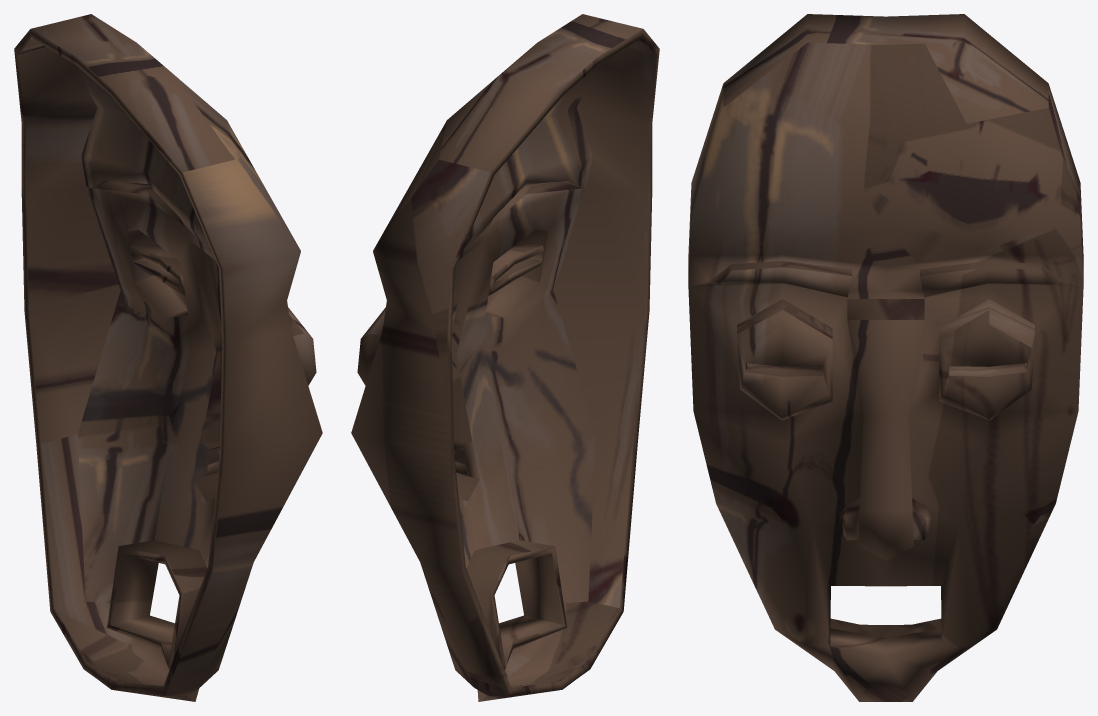
File: Maska_2_Naprawiona.fbx
3 renders of one model, left to right at view 1: azimuth 30°, elevation 25°; view 2: azimuth 150°, elevation 25°; view 3: azimuth 270°, elevation 25°, orthographic. The views are drawn at different scales.
Parts seen in each view (by area): view 1: Cube.002; view 2: Cube.002; view 3: Cube.002.
Part boxes in pixels (x1,y1,x2,y2): Cube.002: [14, 14, 322, 701]; Cube.002: [351, 14, 659, 701]; Cube.002: [688, 14, 1083, 701].
Size of the model in its own units: 23.66 by 80.64 by 45.42.
